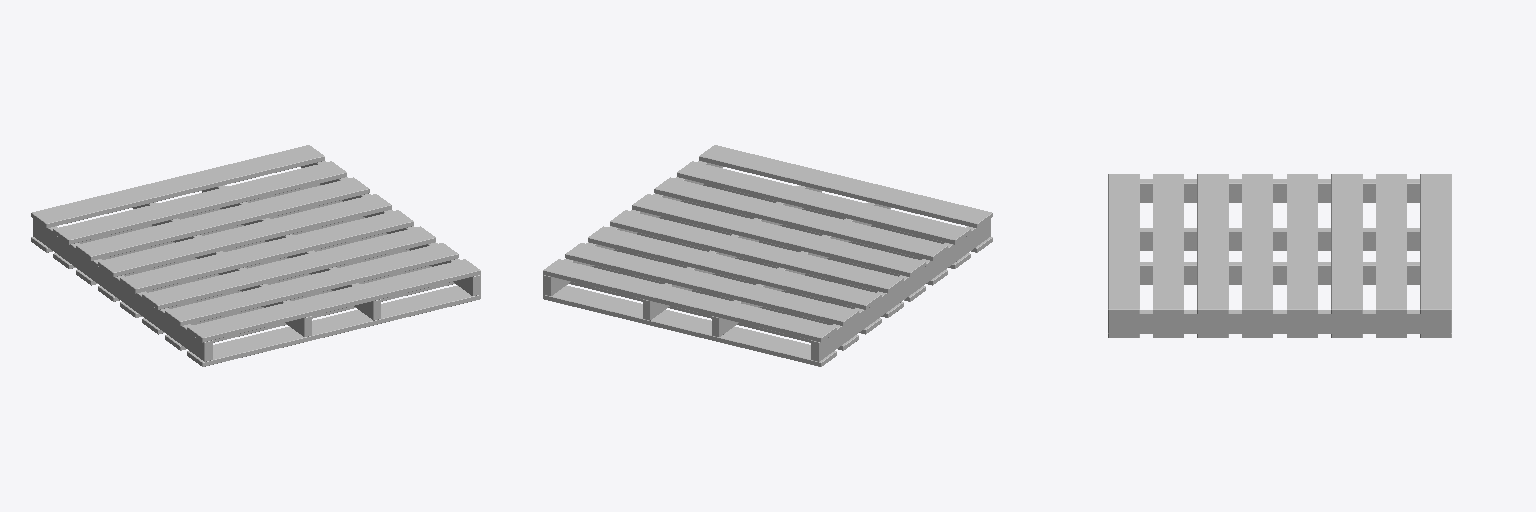
Rendered from pallet1.obj.
3 renders of one model, left to right at view 1: azimuth 30°, elevation 25°; view 2: azimuth 150°, elevation 25°; view 3: azimuth 270°, elevation 25°, orthographic.
Parts seen in each view (by area): view 1: Pallet1; view 2: Pallet1; view 3: Pallet1.
Boxes of the visible parts, box(x1,y1,x2,y2) form: Pallet1: box(31, 145, 480, 366); Pallet1: box(543, 145, 992, 366); Pallet1: box(1108, 174, 1451, 337).
Bounding box in the file's own units: 0.8757 × 0.0879 × 0.9343.